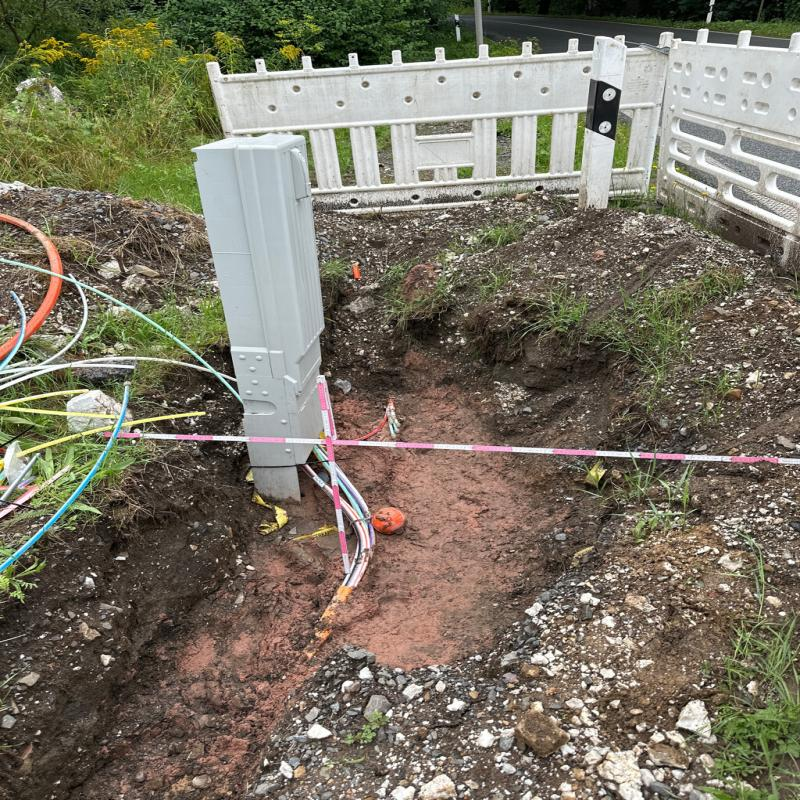Kugelmarker: (372, 506, 404, 533)
NT-Gehause: (195, 135, 334, 465)
